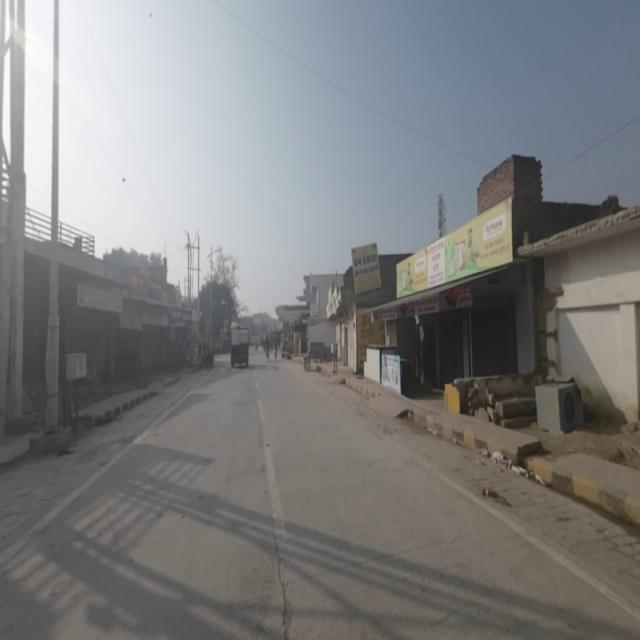Garbage: (490, 446, 509, 472)
